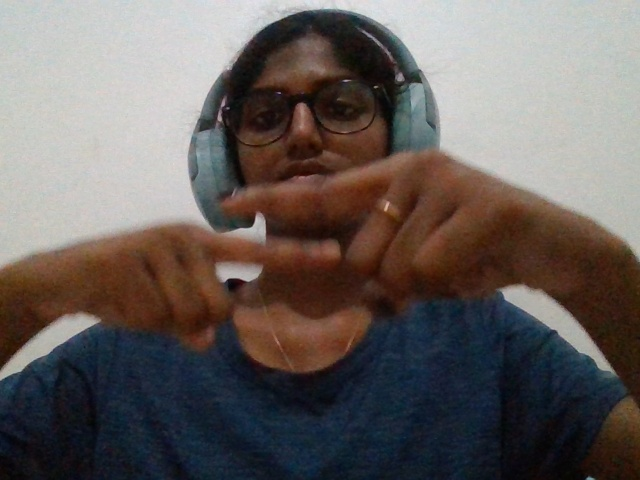Sign: (7, 120, 625, 406)
